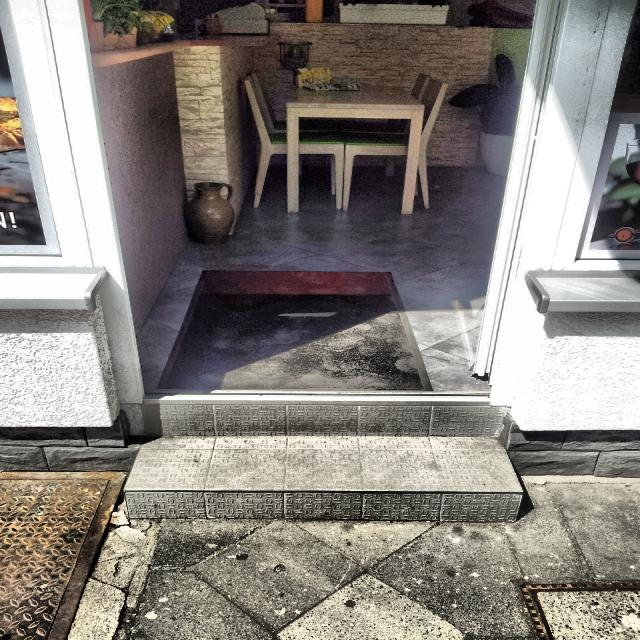escada: (118, 396, 522, 524)
